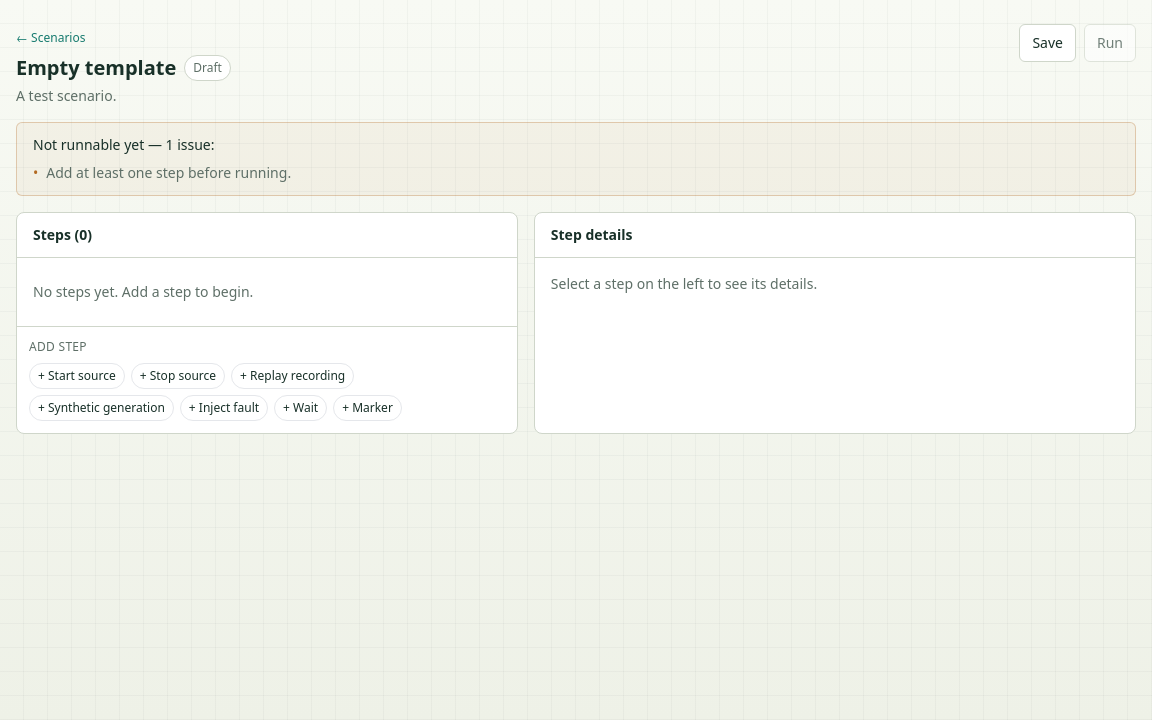
Test case: ScenarioBuilderPage › a freshly-added wait step is NOT auto-configured (needs its duration)
Click the button "+ Wait" at (301, 408), box [274,395,327,421]
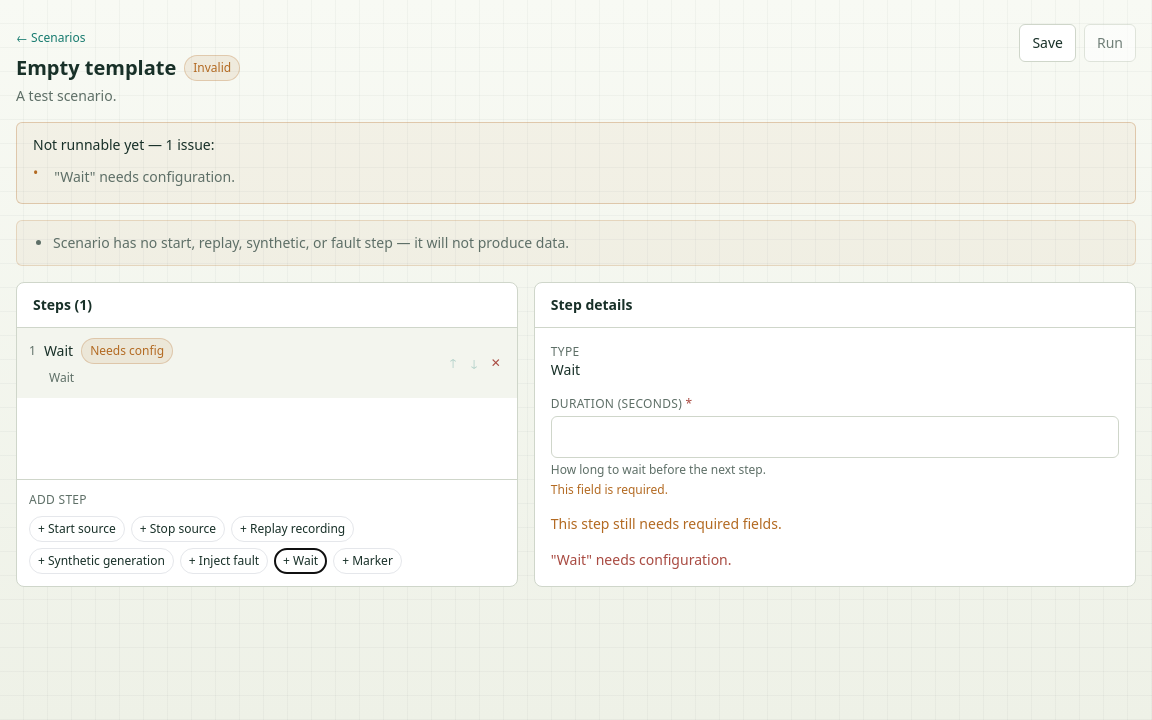
Expected: the button "\"Wait\" needs configuration." is shown, [46,163,243,191]
